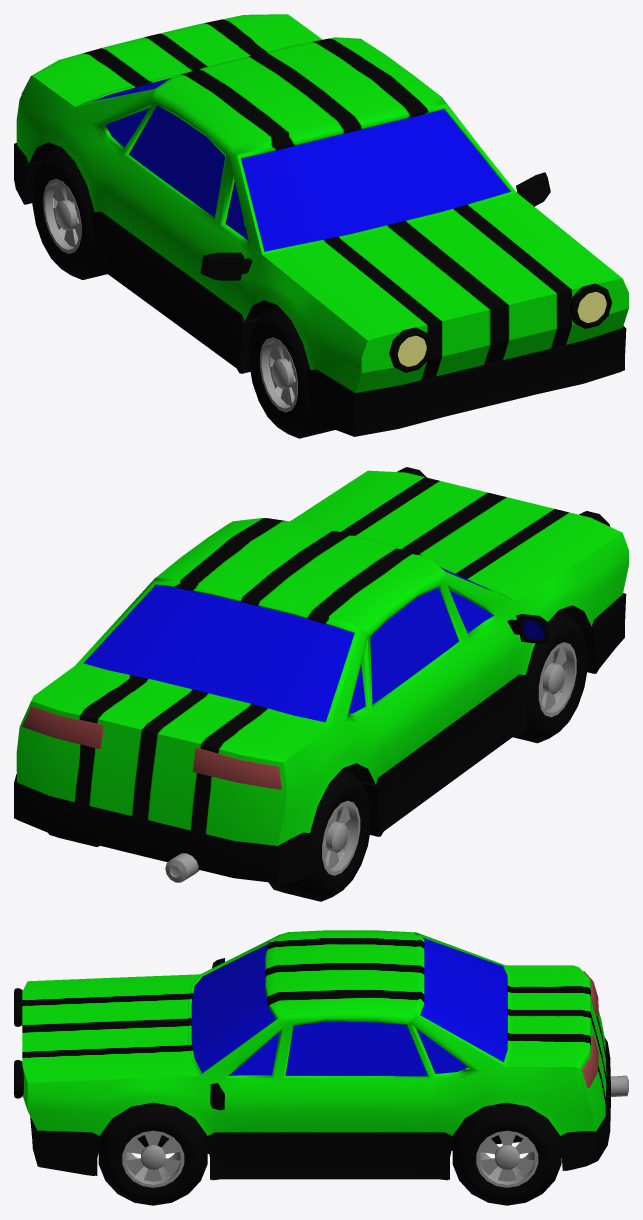
File: Muscle Evolution1 Black TrilineBlackGreen Blue LightGrey.gltf
3 renders of one model, top to bottom at view 1: azimuth 30°, elevation 25°; view 2: azimuth 150°, elevation 25°; view 3: azimuth 270°, elevation 25°, orthographic. The views are drawn at different scales.
Parts seen in each view (by area): view 1: evo1_body4_f1_dupl, evo1_sill0_f1_dupl, evo1_frontGlass_f1_dupl, evo1_glasseBigR_f1_dupl, evo1_tire_rf_f1_dupl, evo1_tire_rf1_f1_dupl, evo1_rim_A_rb_f1_dupl, evo1_rim_A_rf_f1_dupl, evo1_mirorR3_f1_dupl, evo1_blockLightR_f1_dupl, evo1_blockLightL_f1_dupl, evo1_mirorL3_f1_dupl (+4 smaller); view 2: evo1_body4_f1_dupl, evo1_sill0_f1_dupl, evo1_BackGlassGlass_f1_dupl, evo1_glasseBigR_f1_dupl, evo1_tire_rf_f1_dupl, evo1_tire_rf1_f1_dupl, evo1_rim_A_rf_f1_dupl, evo1_rim_A_rb_f1_dupl, evo1_redlightR2_f1_dupl, evo1_redlightL2_f1_dupl, evo1_glassfR_f1_dupl, evo1_pipe1_f1_dupl (+1 smaller); view 3: evo1_body4_f1_dupl, evo1_sill0_f1_dupl, evo1_BackGlassGlass_f1_dupl, evo1_glasseBigL_f1_dupl, evo1_frontGlass_f1_dupl, evo1_tire_lb_f1_dupl, evo1_tire_lf_f1_dupl, evo1_rim_A_lf_f1_dupl, evo1_rim_A_lb_f1_dupl, evo1_glassfL_f1_dupl, evo1_glassbL_f1_dupl, evo1_GroundBody_f1_dupl (+1 smaller).
Part boxes in pixels (x1,y1,x2,y2): evo1_body4_f1_dupl: [16, 14, 628, 392]; evo1_sill0_f1_dupl: [14, 143, 626, 436]; evo1_frontGlass_f1_dupl: [241, 109, 510, 251]; evo1_glasseBigR_f1_dupl: [128, 105, 225, 217]; evo1_tire_rf_f1_dupl: [32, 147, 107, 279]; evo1_tire_rf1_f1_dupl: [249, 306, 334, 438]; evo1_rim_A_rb_f1_dupl: [43, 179, 81, 253]; evo1_rim_A_rf_f1_dupl: [260, 337, 297, 412]; evo1_mirorR3_f1_dupl: [200, 252, 252, 280]; evo1_blockLightR_f1_dupl: [389, 327, 432, 372]; evo1_blockLightL_f1_dupl: [569, 283, 612, 328]; evo1_mirorL3_f1_dupl: [516, 172, 550, 206]; evo1_body4_f1_dupl: [16, 470, 628, 845]; evo1_sill0_f1_dupl: [14, 593, 626, 882]; evo1_BackGlassGlass_f1_dupl: [83, 584, 354, 722]; evo1_glasseBigR_f1_dupl: [370, 587, 458, 704]; evo1_tire_rf_f1_dupl: [268, 769, 371, 901]; evo1_tire_rf1_f1_dupl: [513, 610, 587, 743]; evo1_rim_A_rf_f1_dupl: [538, 642, 576, 717]; evo1_rim_A_rb_f1_dupl: [322, 800, 360, 875]; evo1_redlightR2_f1_dupl: [192, 748, 281, 789]; evo1_redlightL2_f1_dupl: [22, 706, 103, 748]; evo1_glassfR_f1_dupl: [449, 590, 493, 632]; evo1_pipe1_f1_dupl: [165, 853, 199, 882]; evo1_body4_f1_dupl: [22, 930, 606, 1152]; evo1_sill0_f1_dupl: [30, 1037, 610, 1179]; evo1_BackGlassGlass_f1_dupl: [420, 937, 507, 1061]; evo1_glasseBigL_f1_dupl: [285, 1021, 427, 1076]; evo1_frontGlass_f1_dupl: [191, 944, 276, 1073]; evo1_tire_lb_f1_dupl: [452, 1102, 561, 1205]; evo1_tire_lf_f1_dupl: [98, 1102, 207, 1205]; evo1_rim_A_lf_f1_dupl: [122, 1130, 184, 1187]; evo1_rim_A_lb_f1_dupl: [476, 1130, 538, 1187]; evo1_glassfL_f1_dupl: [228, 1032, 279, 1075]; evo1_glassbL_f1_dupl: [416, 1028, 467, 1073]; evo1_GroundBody_f1_dupl: [40, 1140, 594, 1180].
Bounding box in the file's own units: 177 × 112 × 331.
Materials: 7 (1 with a texture image).
